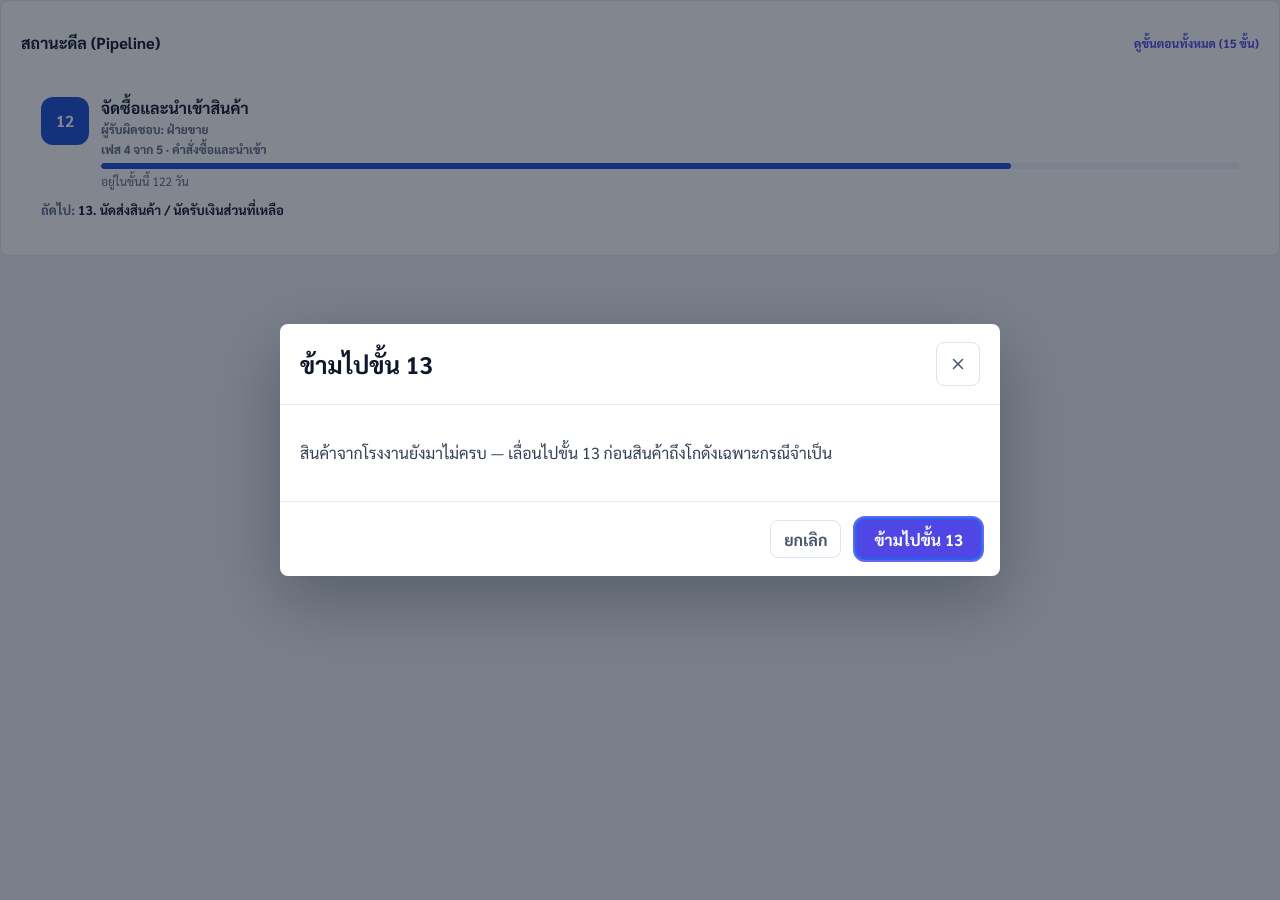
Test: DealStagePanel guided advance (readiness gate) › W3-09 goods-not-arrived warning at PROCUREMENT › cancelling the openAdvance() warning moves nothing and closes the dialog
Click the button "ยกเลิก" at (806, 539), box [770,520,841,558]
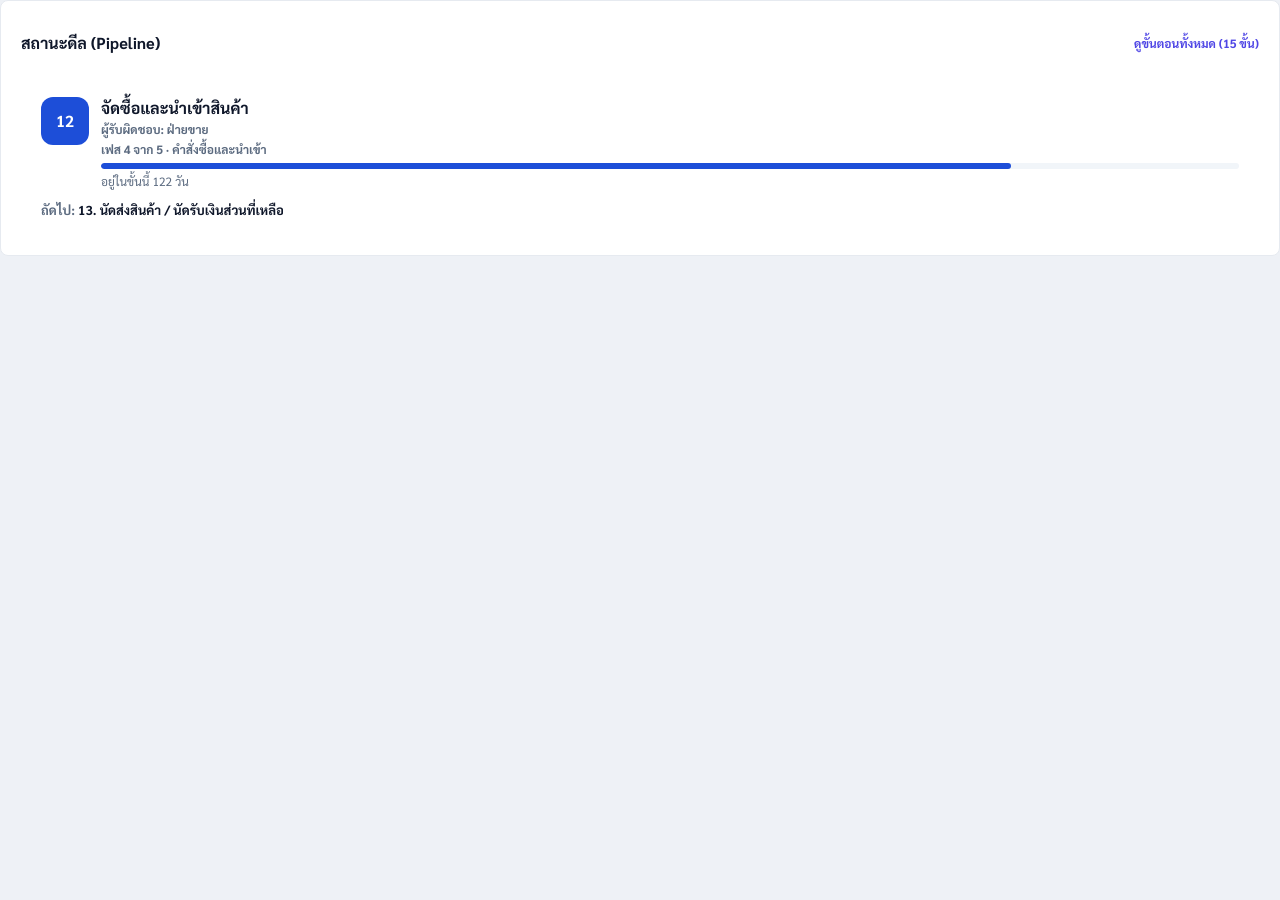
Now the dialog is gone
